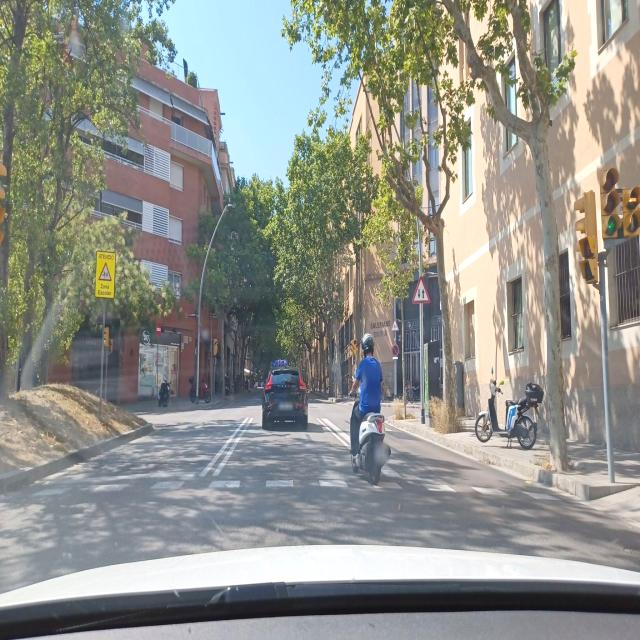bike: (347, 382, 387, 488), (348, 384, 386, 487), (474, 387, 529, 448)
car: (262, 362, 308, 431)
